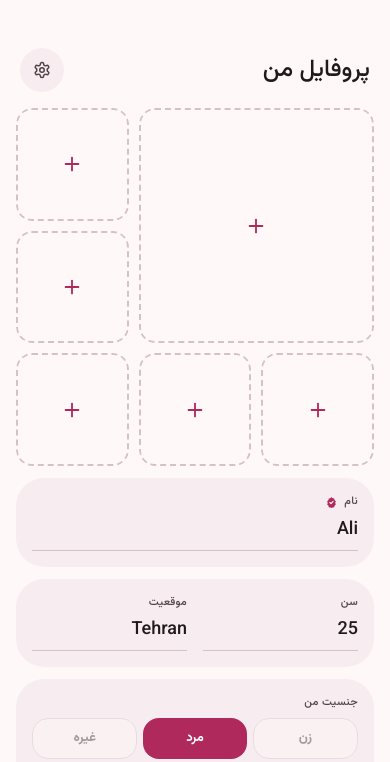
Test case: MyProfile profile-text check › shows a name rejection under the name
Replace the text in the 1st field showing "Ali" with "Shakira": (195,534) 32,516 -> 358,550
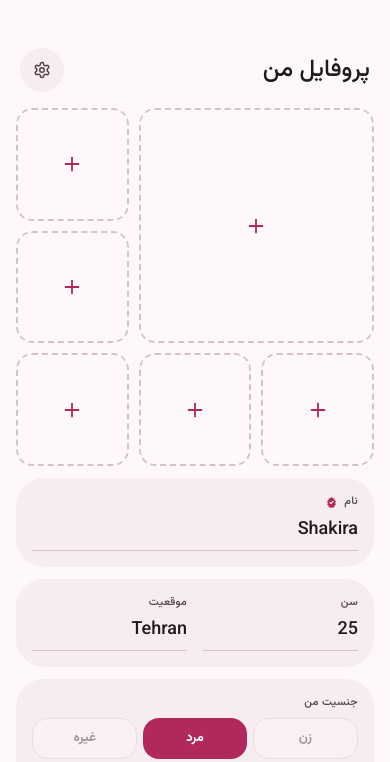
Leave the 1st field showing "Ali", box 32,516 -> 358,550
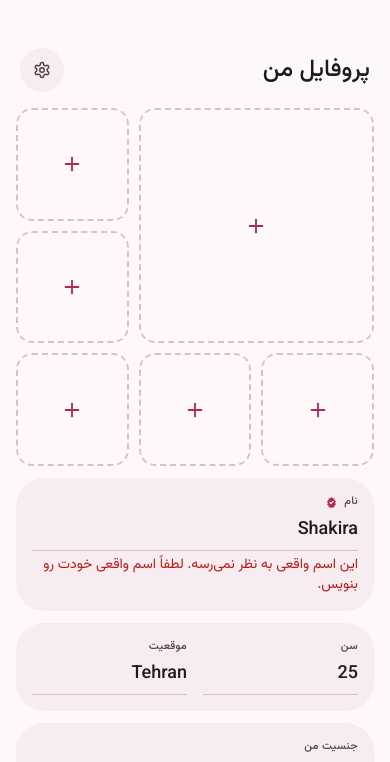
Now the text "این اسم واقعی به نظر نمی‌رسه. لطفاً اسم واقعی خودت رو بنویس." is shown, box 32,554 -> 358,594
